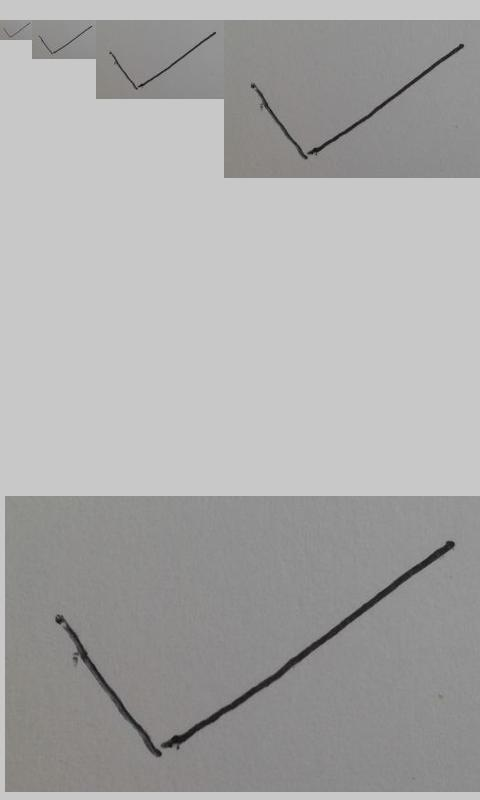check_box: (56, 541, 457, 758), (251, 43, 465, 159), (109, 32, 217, 89), (39, 26, 92, 54), (3, 22, 30, 38)
